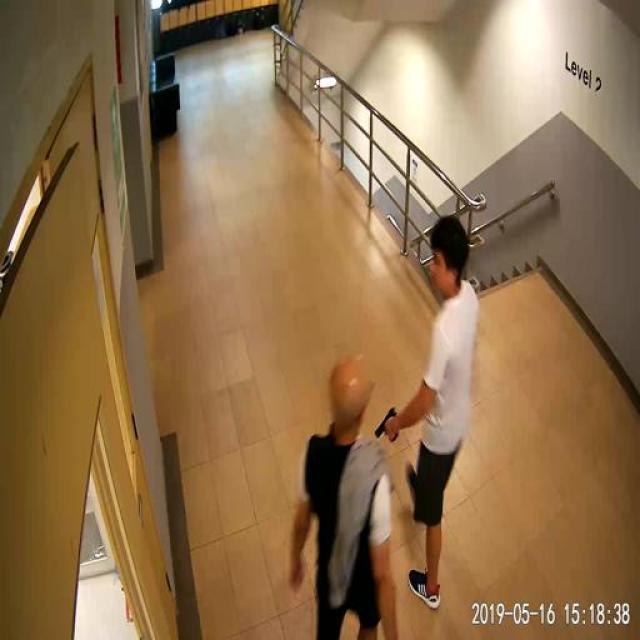Gun: (374, 402, 406, 446)
